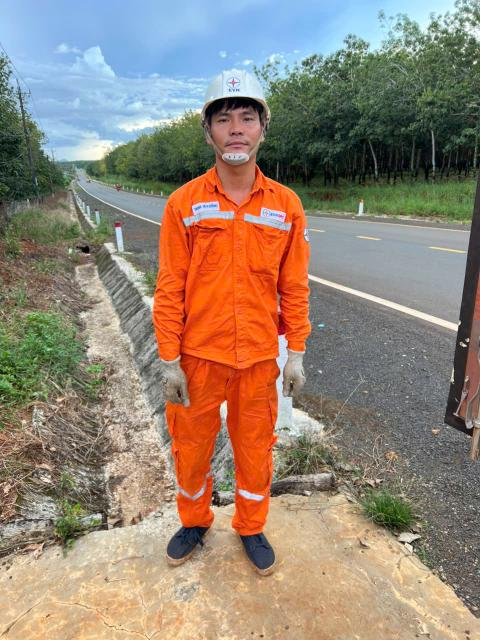gloves: (153, 357, 206, 419), (280, 349, 315, 399)
helmet: (197, 61, 279, 122)
shoes: (230, 524, 294, 596), (153, 516, 227, 572)
